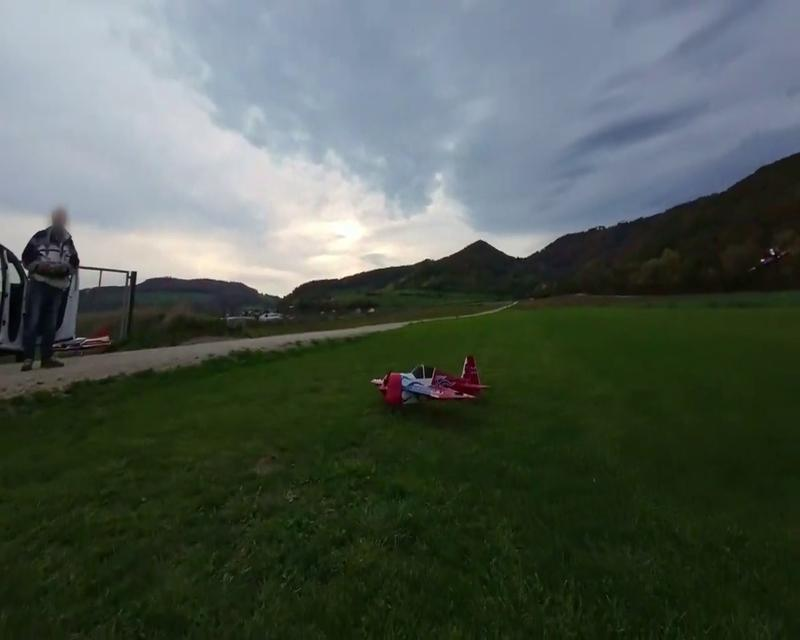UAV: (369, 356, 493, 411)
